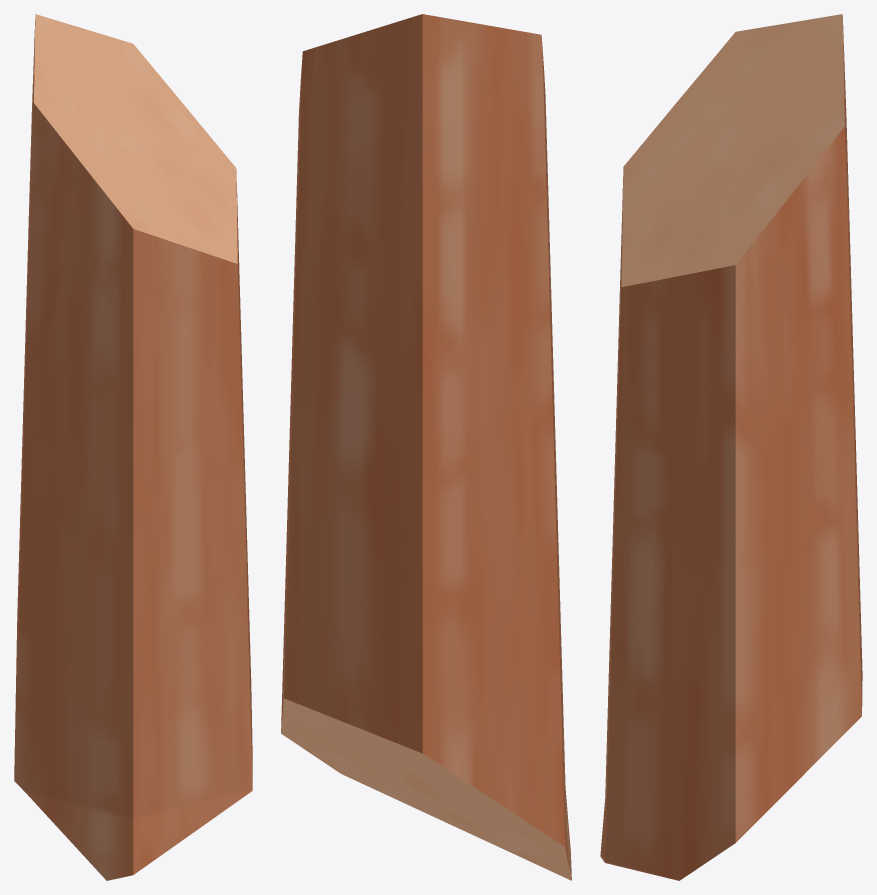
File: tree_s05.fbx
3 renders of one model, left to right at view 1: azimuth 30°, elevation 25°; view 2: azimuth 150°, elevation 25°; view 3: azimuth 270°, elevation 25°, orthographic. The views are drawn at different scales.
Visible parts, largest first — view 1: tree_s05; view 2: tree_s05; view 3: tree_s05.
Boxes of the visible parts, left/top/right/bottom form: tree_s05: left=14, top=14, right=252, bottom=880; tree_s05: left=281, top=14, right=571, bottom=880; tree_s05: left=600, top=14, right=862, bottom=880.
Size of the model in its own units: 0.7948 by 2.53 by 0.6961.
